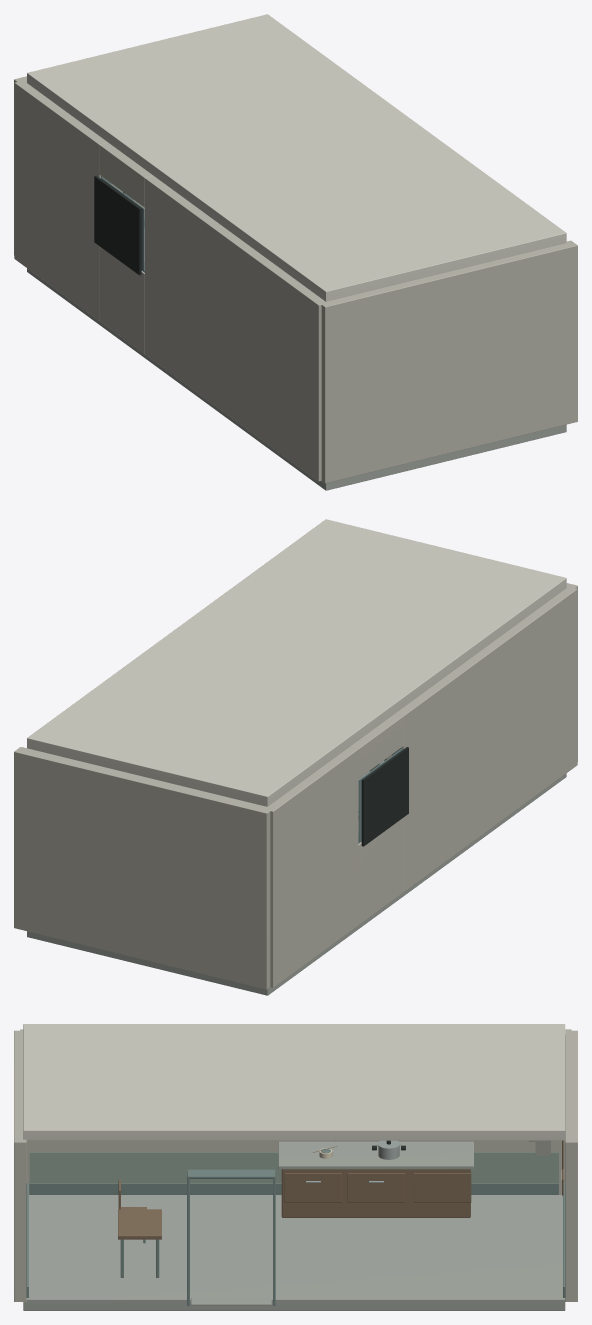
The model's file is F8_finish.glb.
The picture shows the model from 3 angles, top to bottom: view 1: azimuth 30°, elevation 25°; view 2: azimuth 150°, elevation 25°; view 3: azimuth 270°, elevation 25°; orthographic projection. The views are drawn at different scales.
Parts seen in each view (by area): view 1: F8_C2_wall, F8_C2_ceiling, F8_C2_tile, F8_C2_rubber; view 2: F8_C2_wall, F8_C2_ceiling, F8_C2_rubber, F8_C2_tile; view 3: F8_C2_ceiling, F8_C2_tile, F8_C2_wall, F8_C2_wood, F8_C2_paint, F8_C2_metal, F8_C2_steel.
Boxes of the visible parts, left/top/right/bottom form: F8_C2_wall: left=14, top=76, right=577, bottom=483; F8_C2_ceiling: left=27, top=14, right=566, bottom=301; F8_C2_tile: left=27, top=228, right=566, bottom=490; F8_C2_rubber: left=94, top=175, right=141, bottom=275; F8_C2_wall: left=14, top=583, right=577, bottom=989; F8_C2_ceiling: left=27, top=519, right=566, bottom=806; F8_C2_rubber: left=361, top=747, right=408, bottom=846; F8_C2_tile: left=27, top=760, right=566, bottom=995; F8_C2_ceiling: left=23, top=1024, right=565, bottom=1140; F8_C2_tile: left=23, top=1141, right=565, bottom=1310; F8_C2_wall: left=14, top=1029, right=577, bottom=1301; F8_C2_wood: left=118, top=1140, right=563, bottom=1239; F8_C2_paint: left=29, top=1152, right=558, bottom=1183; F8_C2_metal: left=26, top=1148, right=565, bottom=1305; F8_C2_steel: left=305, top=1140, right=400, bottom=1182.
Bounding box in the file's own units: 4.47 × 3.16 × 8.95.
